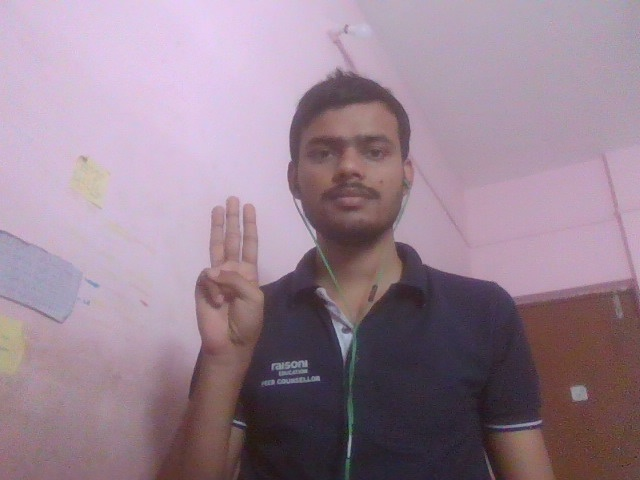Water: (153, 159, 318, 394)
